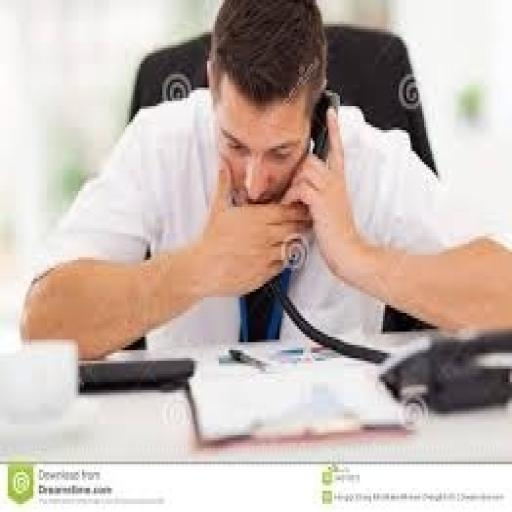calling: (18, 0, 510, 361)
